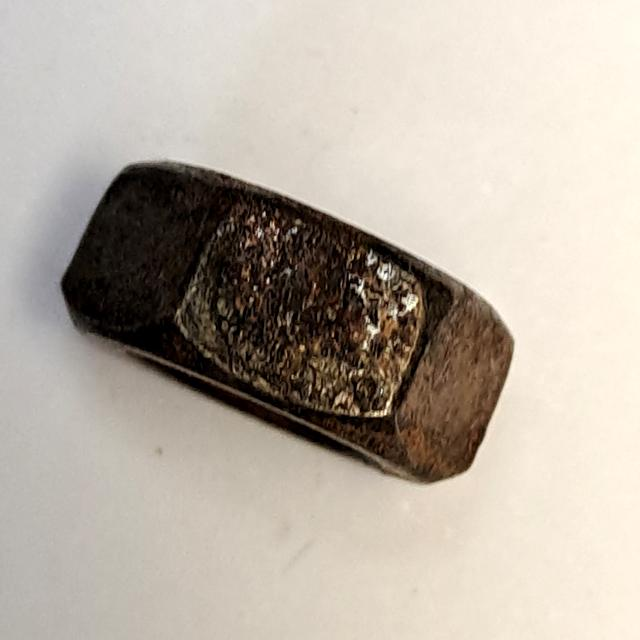Side_Rust: (38, 145, 534, 505)
